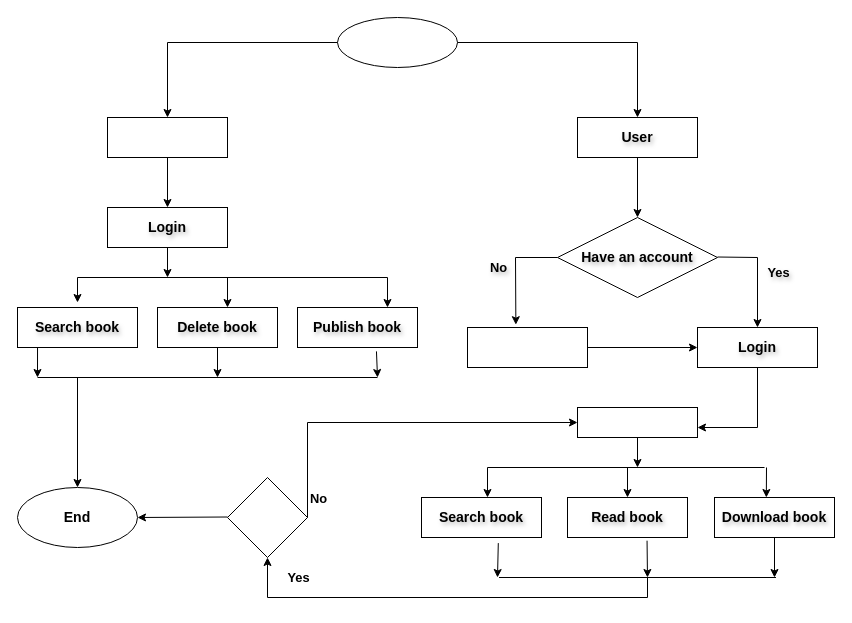
Image size: 852x623. Some labels were removed from this diagram. Each missing label, with the box of its shape:
Activity is done?: (226, 476, 308, 558)
Admin: (106, 116, 228, 158)
Home: (576, 406, 698, 438)
Signup: (466, 326, 588, 368)
start: (336, 16, 458, 68)
